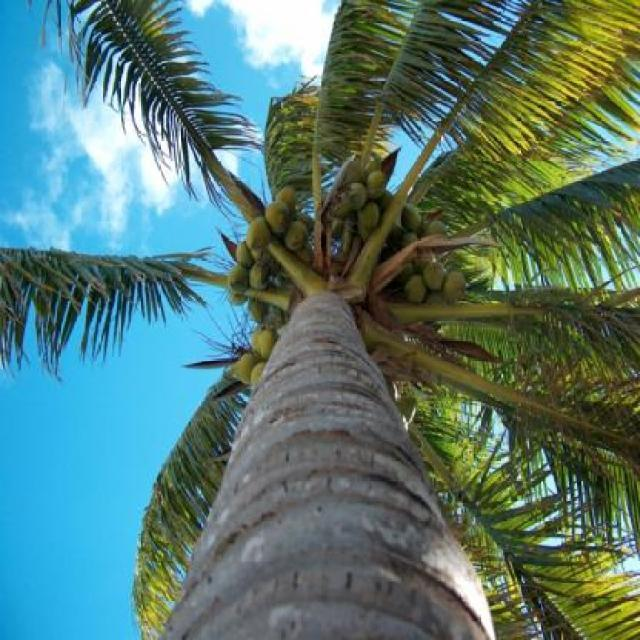Coconut: (226, 153, 468, 430)
